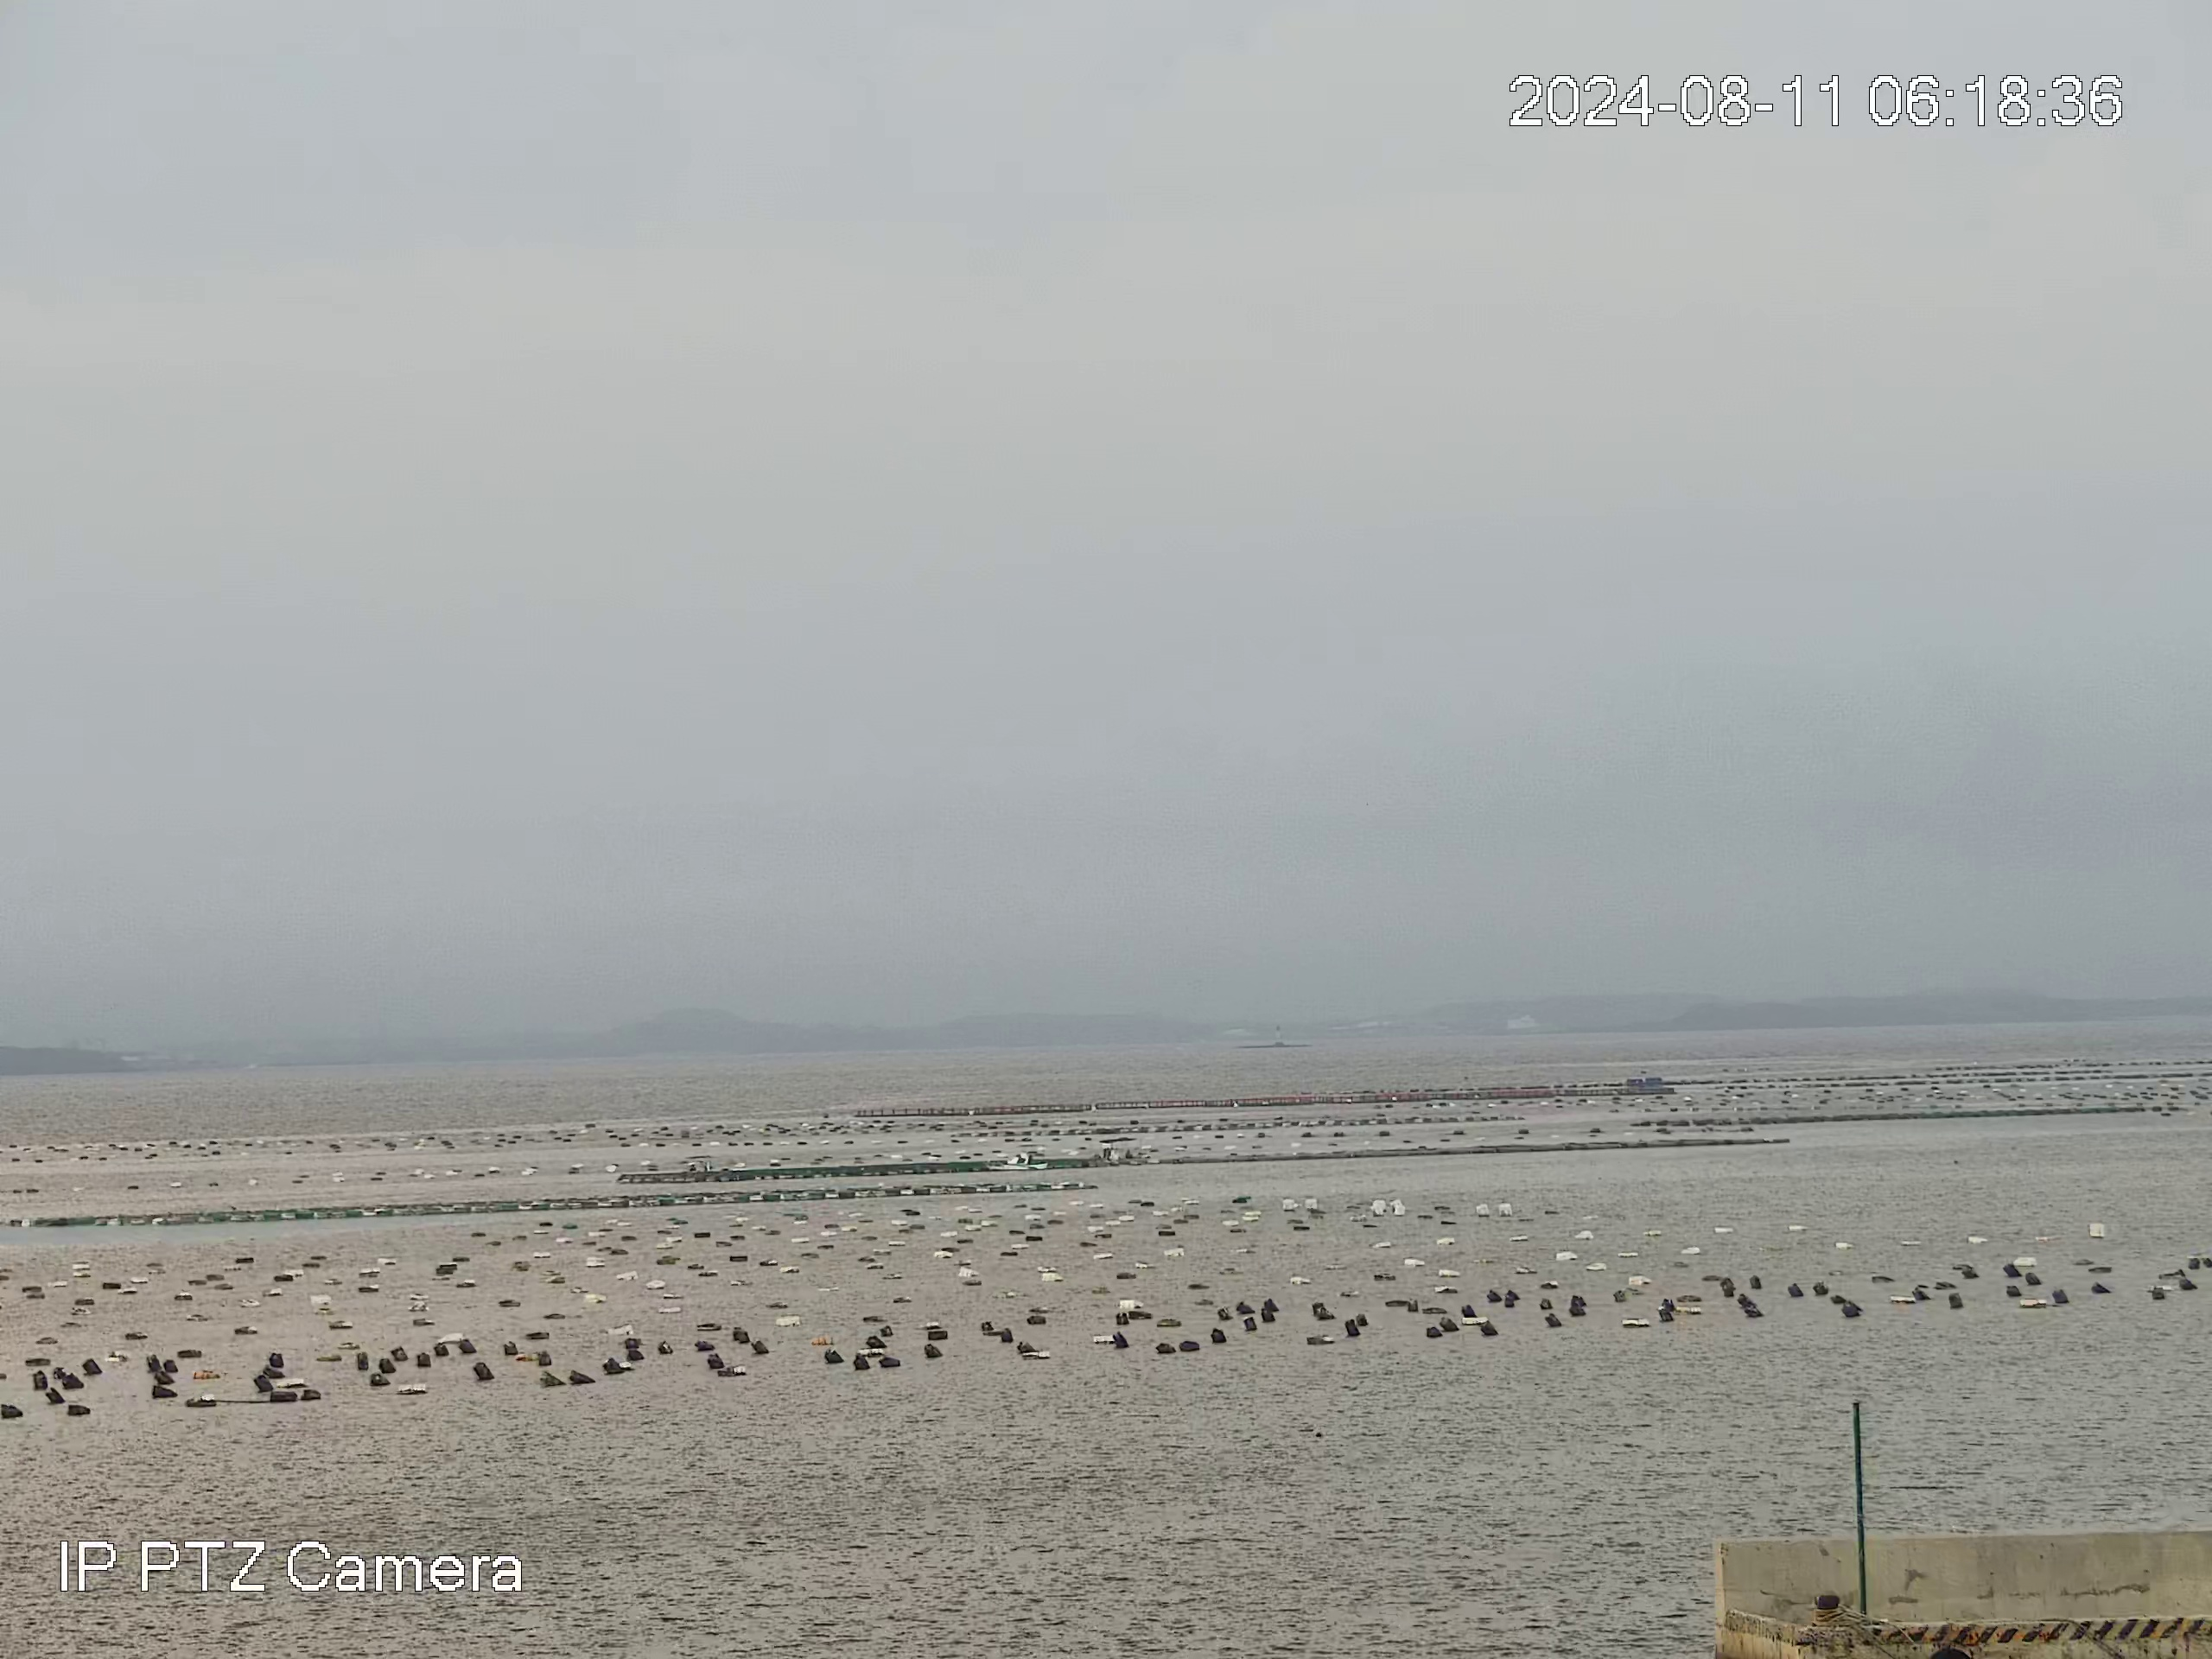boat: (982, 1148, 1050, 1173)
